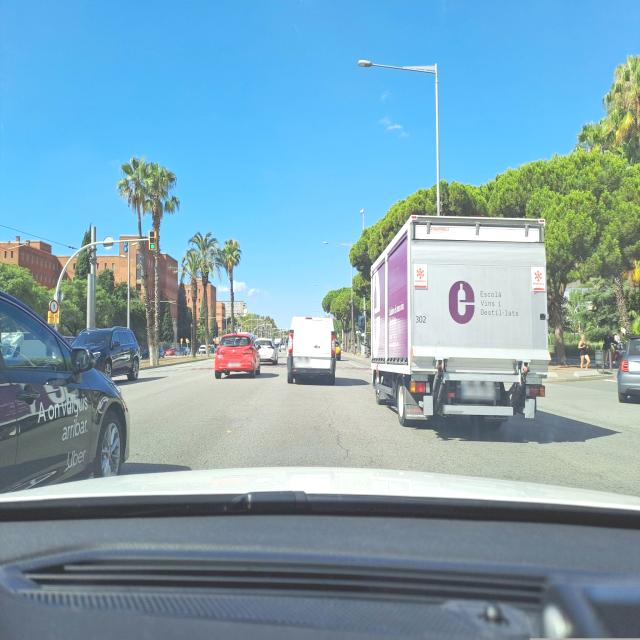car: (0, 274, 130, 502), (68, 326, 141, 382), (286, 314, 336, 384), (213, 331, 260, 379), (616, 335, 640, 404), (256, 337, 278, 365), (334, 337, 342, 361), (198, 344, 208, 354), (164, 348, 175, 357), (274, 339, 280, 351)
